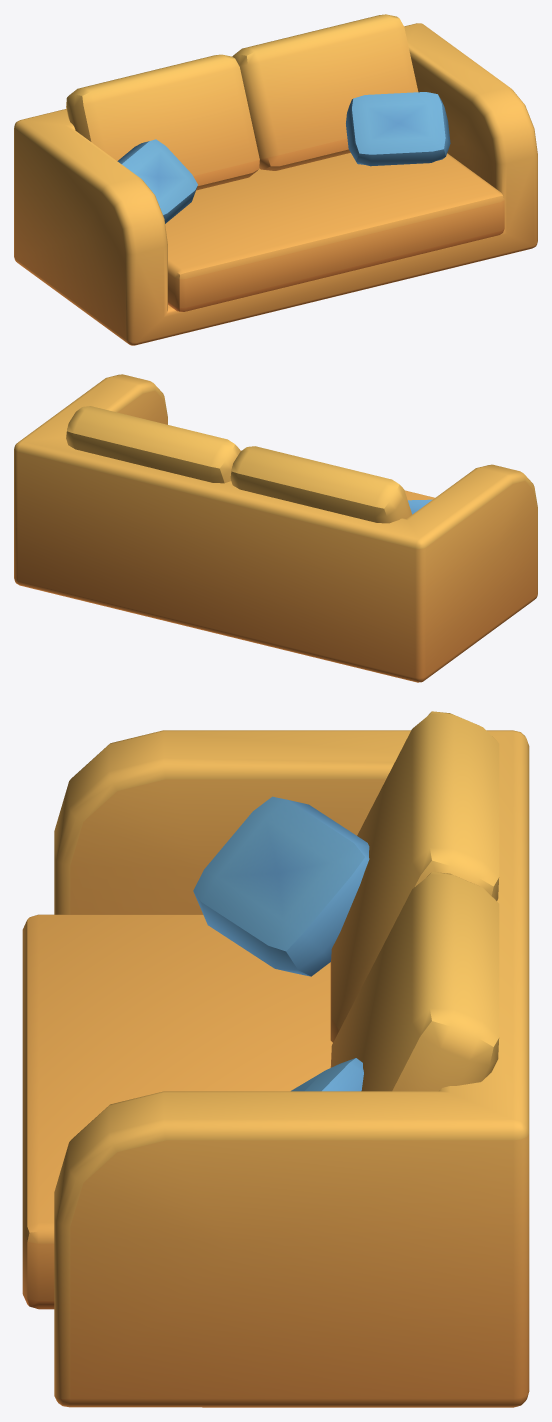
The picture shows the model from 3 angles, top to bottom: view 1: azimuth 30°, elevation 25°; view 2: azimuth 150°, elevation 25°; view 3: azimuth 270°, elevation 25°; orthographic projection. The views are drawn at different scales.
Parts seen in each view (by area): view 1: couch_pillows; view 2: couch_pillows; view 3: couch_pillows.
Boxes of the visible parts, x1=… form: couch_pillows: x1=14, y1=14, x2=537, y2=345; couch_pillows: x1=14, y1=374, x2=537, y2=682; couch_pillows: x1=22, y1=711, x2=529, y2=1407.
Bounding box in the file's own units: 3 × 1.22 × 1.6.
1 material, 1 textured.
